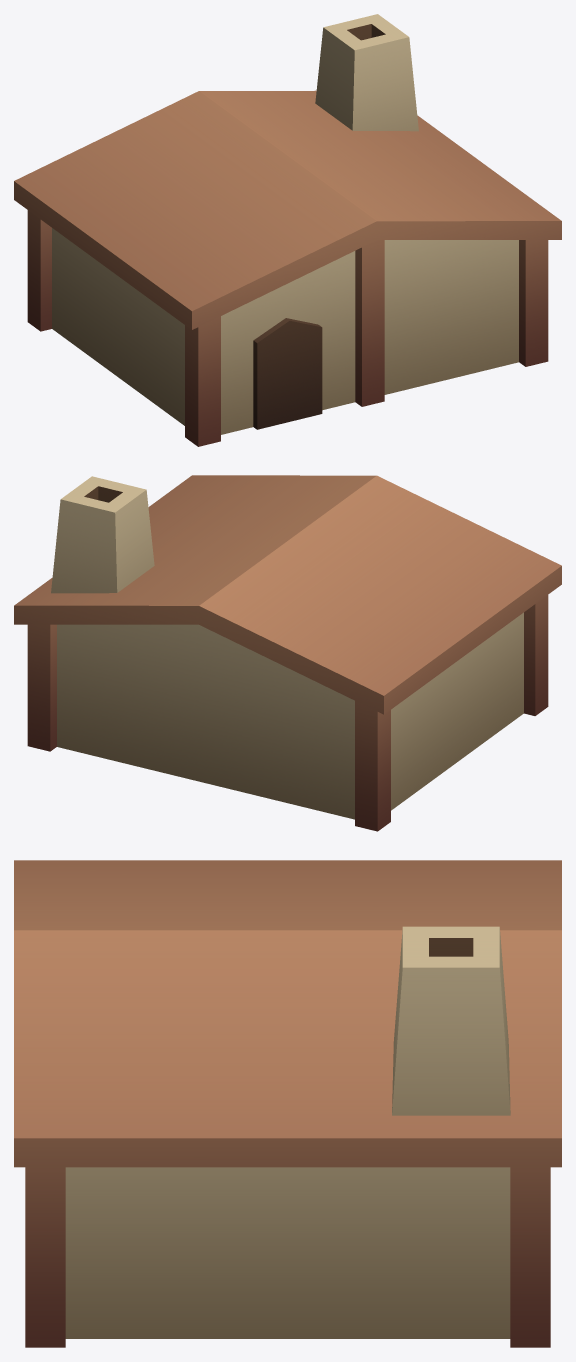
File: SM_House_Large.fbx
The picture shows the model from 3 angles, top to bottom: view 1: azimuth 30°, elevation 25°; view 2: azimuth 150°, elevation 25°; view 3: azimuth 270°, elevation 25°; orthographic projection. The views are drawn at different scales.
Parts seen in each view (by area): view 1: House_Large; view 2: House_Large; view 3: House_Large.
Boxes of the visible parts, x1,y1,x2,y2 form: House_Large: (14, 14, 561, 446); House_Large: (14, 475, 561, 831); House_Large: (14, 860, 561, 1347).
Size of the model in its own units: 561 by 346 by 467.
